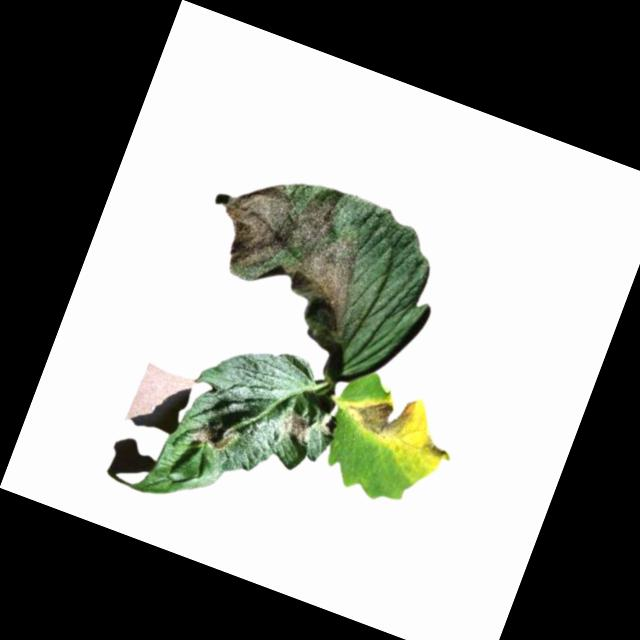Late_blight: (170, 153, 386, 354), (339, 375, 417, 442), (186, 413, 241, 455), (273, 407, 315, 447), (424, 439, 450, 460)
